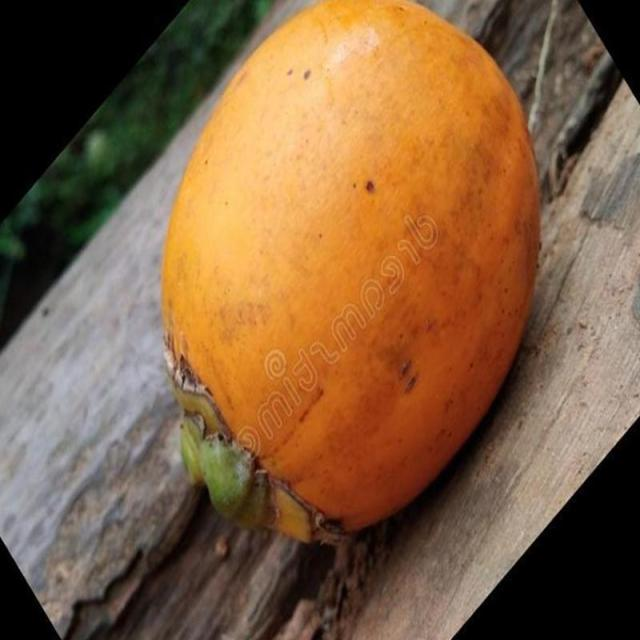good: (158, 0, 541, 546)
